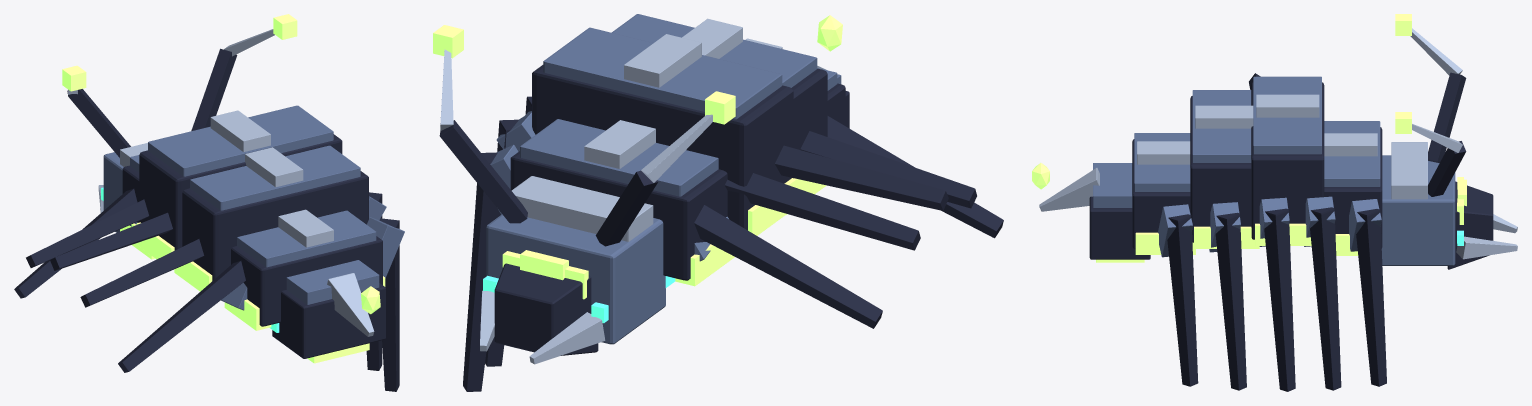
The model's file is crawler.glb.
The picture shows the model from 3 angles, left to right: view 1: azimuth 30°, elevation 25°; view 2: azimuth 150°, elevation 25°; view 3: azimuth 270°, elevation 25°; orthographic projection. The views are drawn at different scales.
Parts seen in each view (by area): view 1: body, tail, leg.BR, leg.FR, leg.BL, ear.L, ear.R, head; view 2: body, head, leg.FR, leg.FL, leg.BR, ear.L, ear.R, tail; view 3: body, leg.FL, head, leg.BL, tail, ear.R, ear.L.
Part boxes in pixels (<box>): body: <box>120,105,385,332</box>; tail: <box>272,260,385,363</box>; leg.BR: <box>80,239,247,372</box>; leg.FR: <box>14,188,172,298</box>; leg.BL: <box>366,192,404,391</box>; ear.L: <box>191,14,297,130</box>; ear.R: <box>62,65,130,157</box>; head: <box>98,143,147,232</box>; body: <box>510,14,845,287</box>; head: <box>480,176,665,364</box>; leg.FR: <box>694,145,948,328</box>; leg.FL: <box>463,96,535,391</box>; leg.BR: <box>800,116,1003,238</box>; ear.L: <box>433,25,527,223</box>; ear.R: <box>595,91,735,246</box>; tail: <box>817,15,849,128</box>; body: <box>1132,76,1382,255</box>; leg.FL: <box>1259,196,1386,391</box>; head: <box>1381,142,1517,269</box>; leg.BL: <box>1158,202,1246,390</box>; tail: <box>1032,163,1150,262</box>; ear.R: <box>1395,14,1466,162</box>; ear.L: <box>1395,112,1466,196</box>.
Size of the model in its own units: 1.09 by 0.9198 by 1.49.
